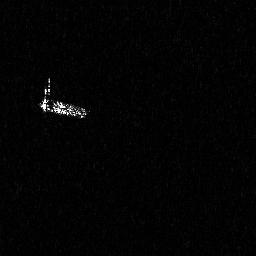ship: (38, 75, 88, 120)
